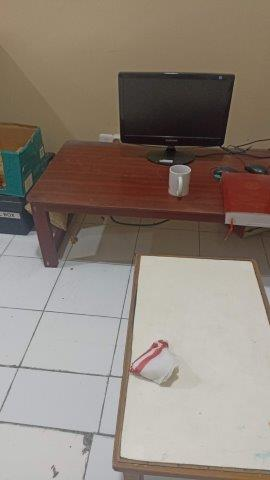plastik: (125, 342, 181, 388)
